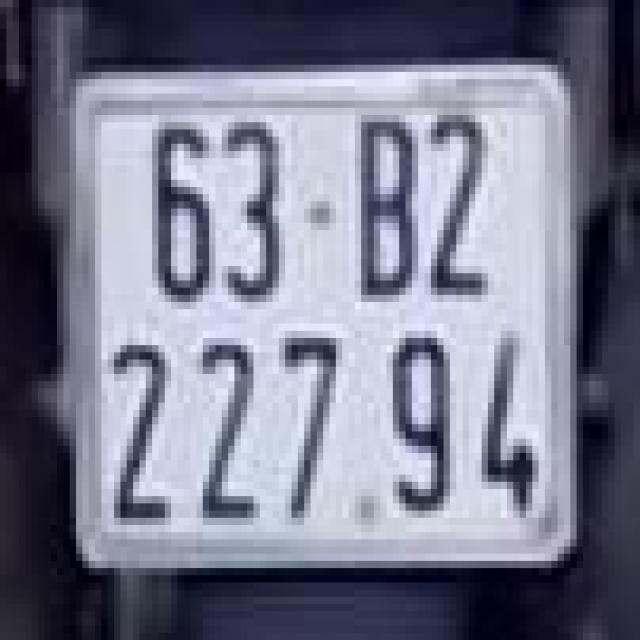2: (95, 327, 184, 529), (422, 108, 498, 302), (193, 331, 263, 525)
3: (216, 108, 292, 309)
4: (472, 324, 555, 539)
6: (142, 115, 218, 309)
7: (273, 327, 342, 529)
9: (383, 316, 466, 518)
B: (348, 108, 431, 309)
